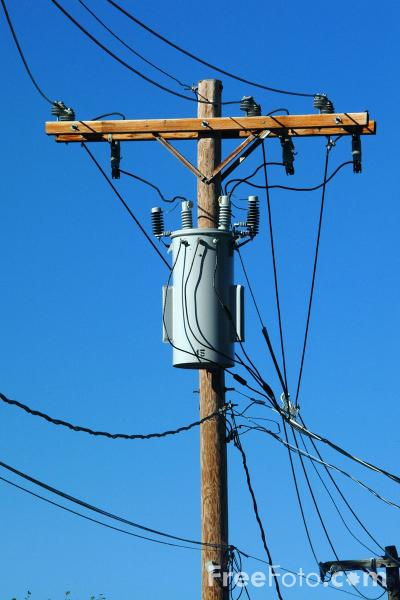utility_pole: (22, 48, 388, 428)
